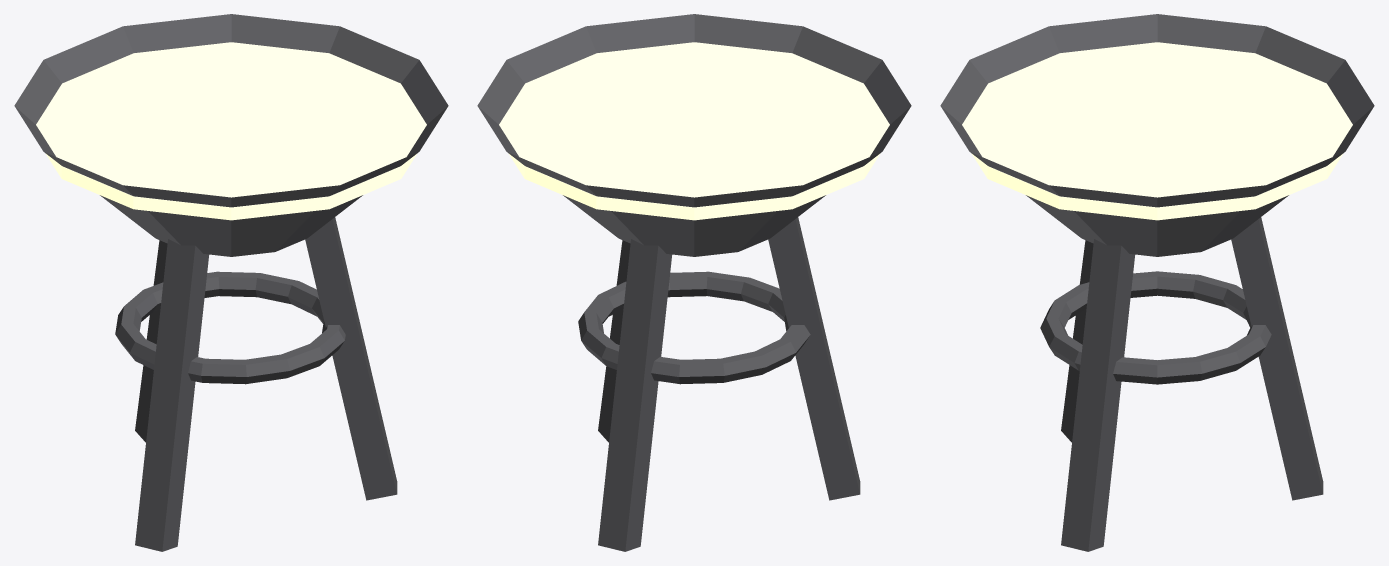
File: Brazier.fbx
3 renders of one model, left to right at view 1: azimuth 30°, elevation 25°; view 2: azimuth 150°, elevation 25°; view 3: azimuth 270°, elevation 25°, orthographic.
Visible parts, largest first — view 1: Brazier; view 2: Brazier; view 3: Brazier.
Part boxes in pixels (<box>): Brazier: <box>14,14,448,551</box>; Brazier: <box>477,14,911,551</box>; Brazier: <box>940,14,1374,551</box>.
Bounding box in the file's own units: 1.24 × 1.22 × 1.24.
